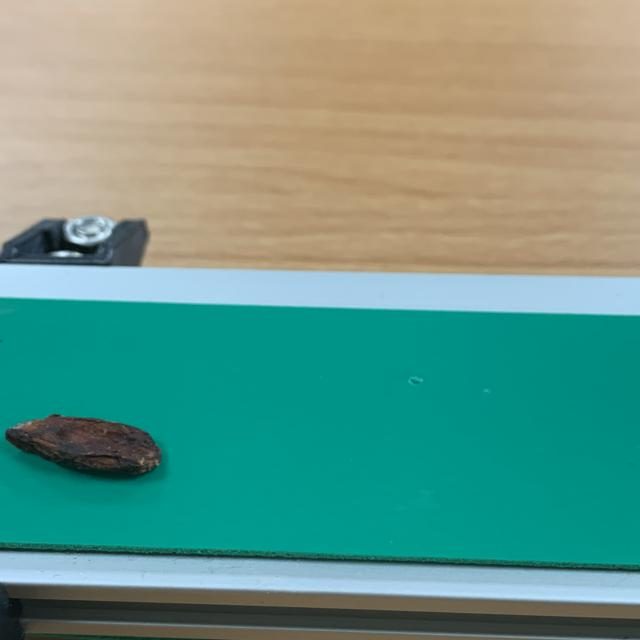Flat_cocoabeans: (0, 379, 299, 551)
